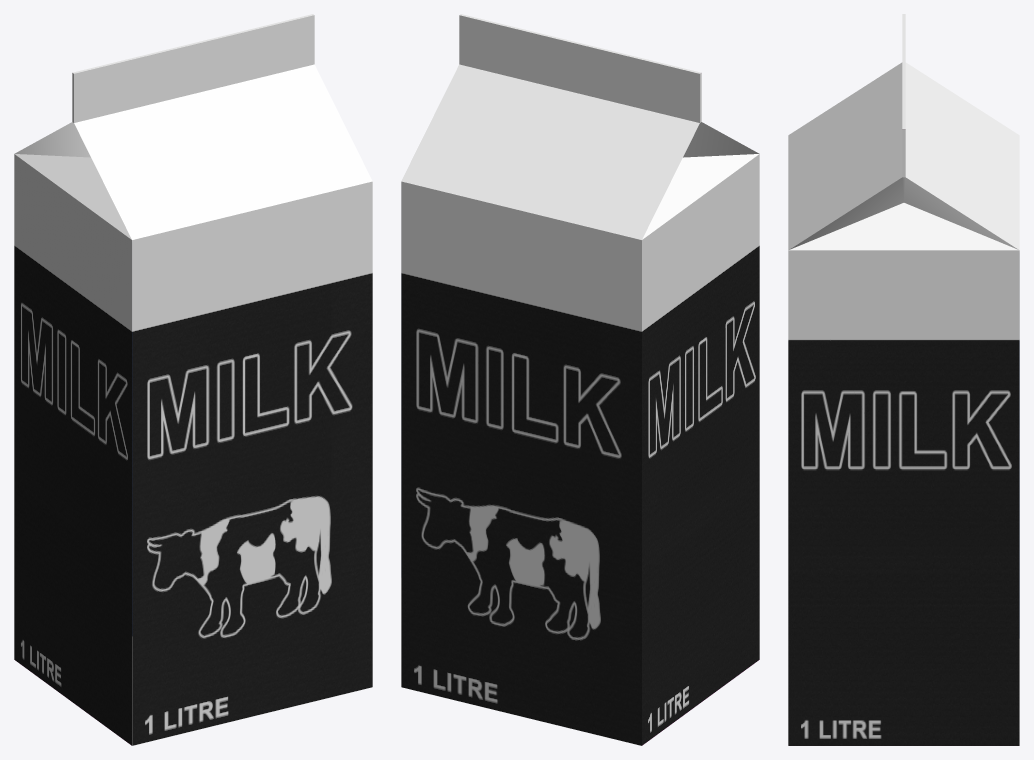
File: milk_box_3.FBX
3 renders of one model, left to right at view 1: azimuth 30°, elevation 25°; view 2: azimuth 150°, elevation 25°; view 3: azimuth 270°, elevation 25°, orthographic. The views are drawn at different scales.
Visible parts, largest first — view 1: milk_box_3; view 2: milk_box_3; view 3: milk_box_3.
Boxes of the visible parts, bbox=[...] form: milk_box_3: bbox=[14, 14, 372, 745]; milk_box_3: bbox=[401, 14, 759, 745]; milk_box_3: bbox=[788, 14, 1019, 745].
Bounding box in the file's own units: 3.15 × 2.67 × 7.87.
